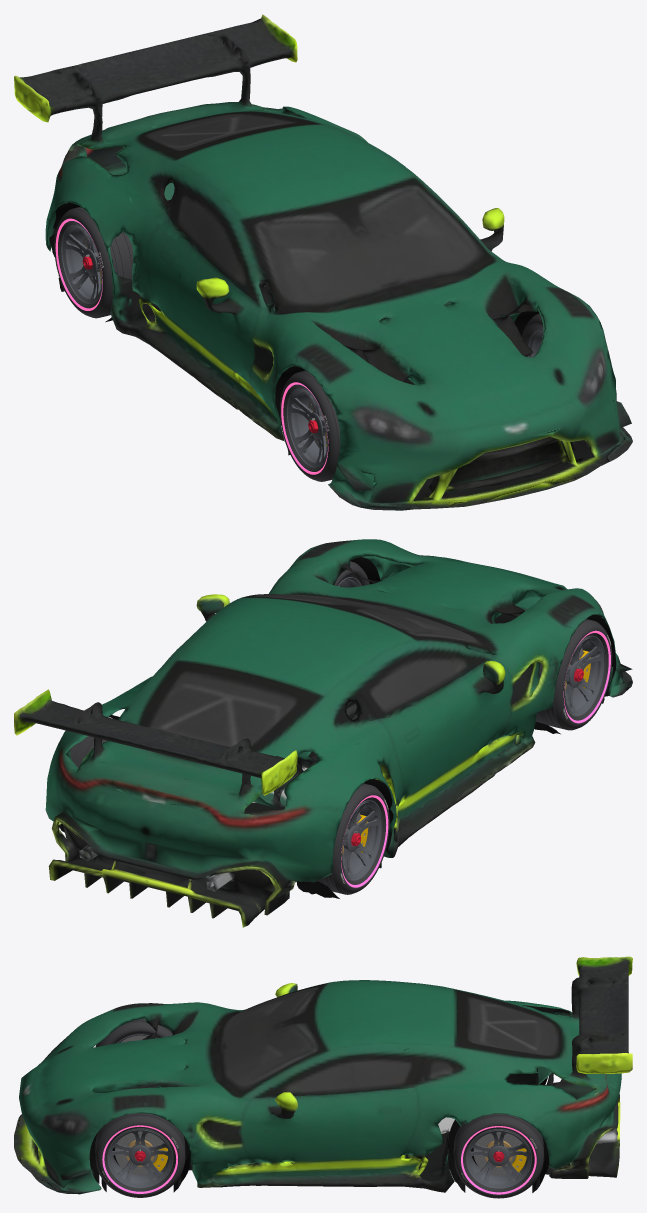
The model's file is aston_vantage_full.glb.
3 views of the same model, one above another, from view 1: azimuth 30°, elevation 25°; view 2: azimuth 150°, elevation 25°; view 3: azimuth 270°, elevation 25° (orthographic). The views are drawn at different scales.
Visible parts, largest first — view 1: AstonVantage_Body, RL_GT3_TireRubber, FL_GT3_TireRubber, RL_GT3_AlloyRim, FL_GT3_AlloyRim; view 2: AstonVantage_Body, FL_GT3_TireRubber, RL_GT3_AlloyRim, FL_GT3_AlloyRim, RL_GT3_TireRubber; view 3: AstonVantage_Body, FR_GT3_TireRubber, RR_GT3_TireRubber, FR_GT3_AlloyRim, RR_GT3_AlloyRim, FL_GT3_TireRubber, FR_GT3_BrakeDisc, RR_GT3_BrakeDisc, RR_GT3_SidewallStripe, FR_GT3_SidewallStripe.
Boxes of the visible parts, box(x1,y1,x2,y2) form: AstonVantage_Body: box(14, 14, 632, 510); RL_GT3_TireRubber: box(54, 206, 132, 318); FL_GT3_TireRubber: box(280, 370, 340, 481); RL_GT3_AlloyRim: box(61, 223, 102, 304); FL_GT3_AlloyRim: box(286, 387, 327, 468); AstonVantage_Body: box(14, 539, 632, 927); FL_GT3_TireRubber: box(536, 619, 612, 730); RL_GT3_AlloyRim: box(341, 800, 382, 881); FL_GT3_AlloyRim: box(564, 635, 605, 716); RL_GT3_TireRubber: box(318, 783, 389, 894); AstonVantage_Body: box(14, 956, 632, 1194); FR_GT3_TireRubber: box(95, 1113, 185, 1197); RR_GT3_TireRubber: box(453, 1113, 543, 1198); FR_GT3_AlloyRim: box(107, 1128, 173, 1188); RR_GT3_AlloyRim: box(465, 1129, 531, 1189); FL_GT3_TireRubber: box(95, 1018, 172, 1047); FR_GT3_BrakeDisc: box(115, 1131, 163, 1175); RR_GT3_BrakeDisc: box(473, 1132, 522, 1175); RR_GT3_SidewallStripe: box(461, 1126, 536, 1194); FR_GT3_SidewallStripe: box(102, 1125, 177, 1193).
Size of the model in its own units: 2.06 by 1.14 by 4.53.
Materials: 11 (1 with a texture image).
